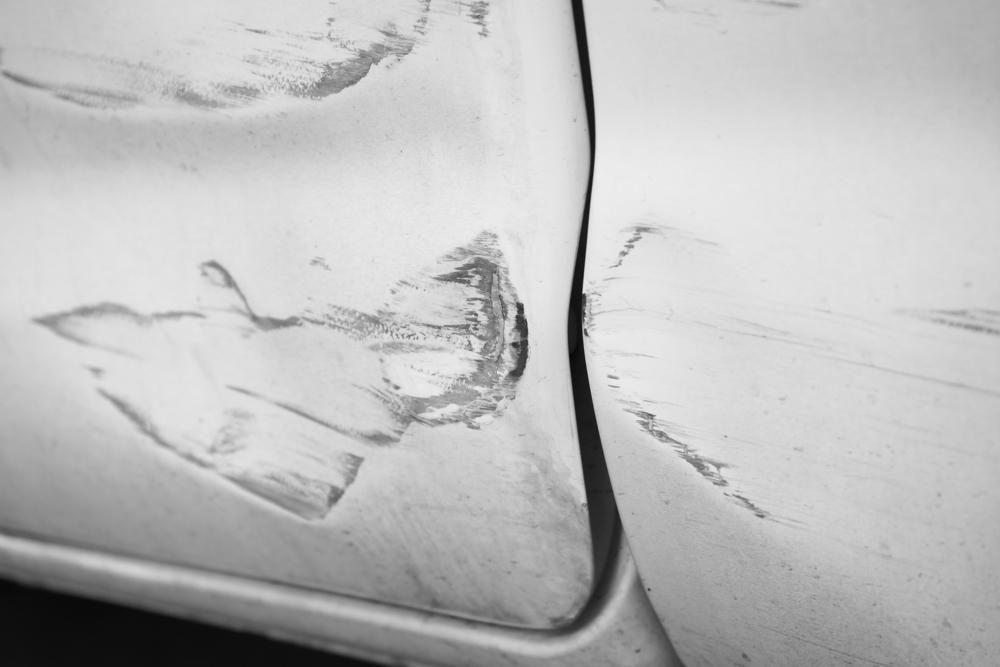scratch: (28, 228, 533, 528), (581, 217, 1000, 546), (0, 0, 505, 129)
